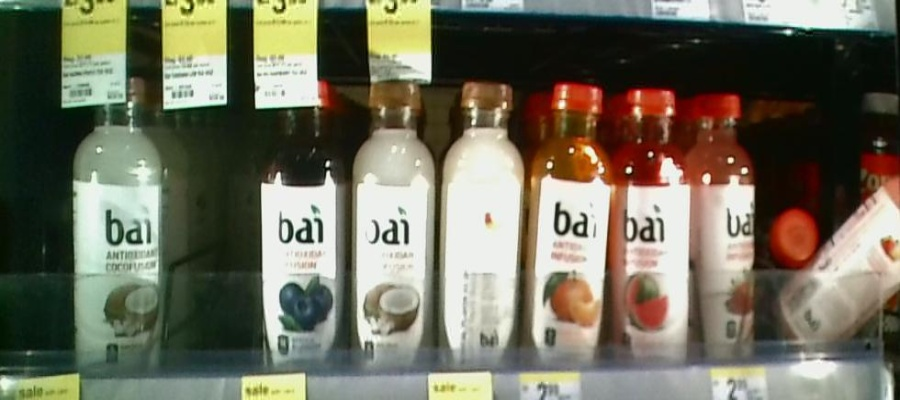bottle: (67, 74, 167, 374), (256, 74, 345, 369), (439, 81, 526, 368), (613, 72, 693, 374), (353, 77, 435, 370), (530, 77, 610, 367), (695, 83, 757, 366), (771, 190, 820, 280)
